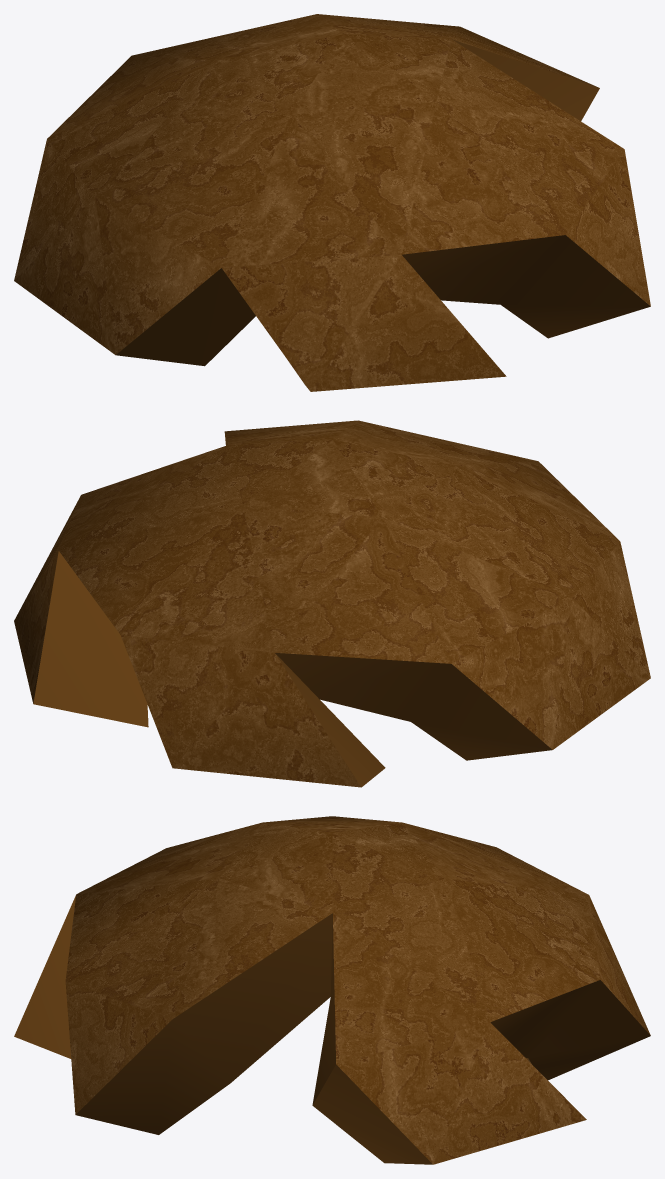
The model's file is TheDirt.fbx.
3 views of the same model, one above another, from view 1: azimuth 30°, elevation 25°; view 2: azimuth 150°, elevation 25°; view 3: azimuth 270°, elevation 25° (orthographic). The views are drawn at different scales.
Visible parts, largest first — view 1: GeoSphere001; view 2: GeoSphere001; view 3: GeoSphere001.
Boxes of the visible parts, box(x1,y1,x2,y2) form: GeoSphere001: box(14, 14, 650, 391); GeoSphere001: box(14, 420, 650, 787); GeoSphere001: box(14, 816, 650, 1164).
Bounding box in the file's own units: 1215 × 553 × 1277.
